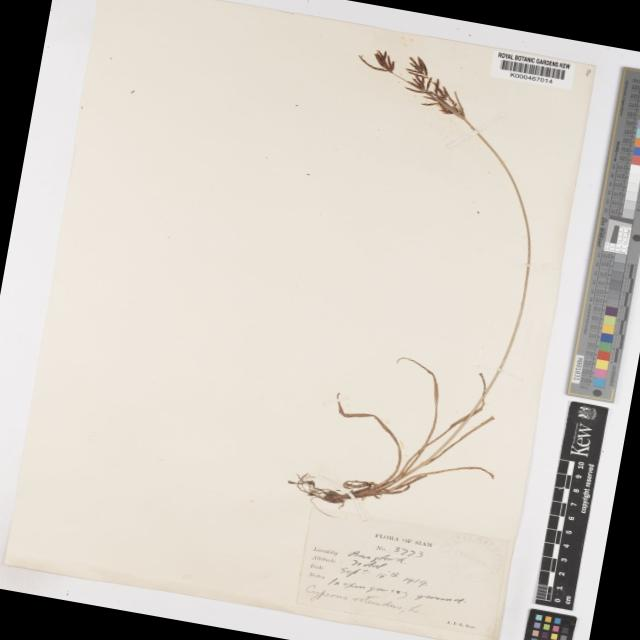cyperus: (342, 34, 484, 132)
